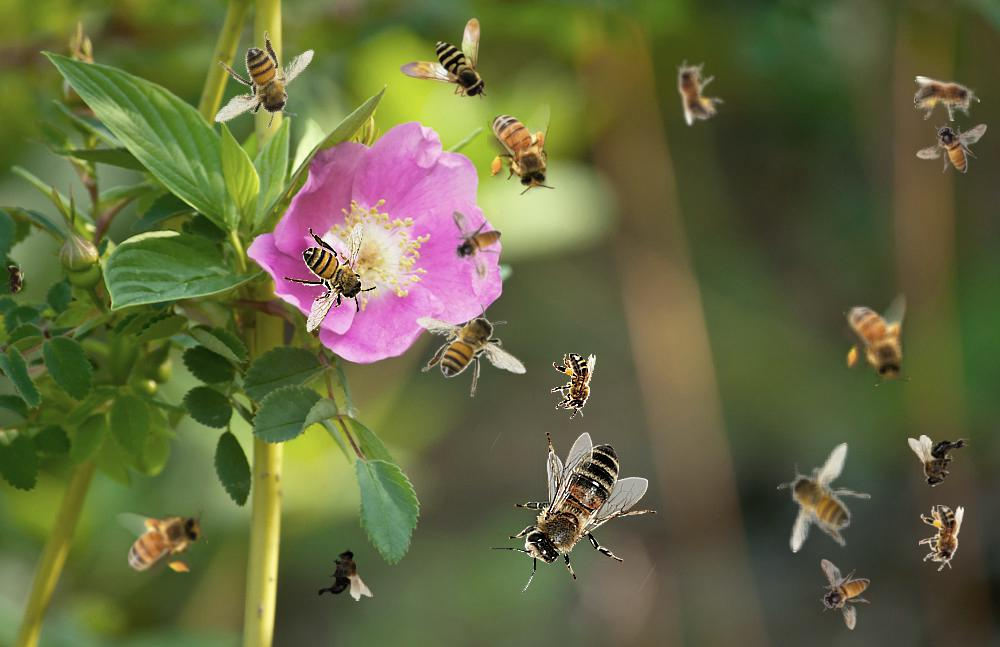Bee: (490, 432, 657, 594), (192, 12, 329, 156), (283, 222, 377, 333), (777, 442, 871, 553), (416, 303, 527, 397), (399, 18, 487, 100), (487, 102, 555, 195), (115, 508, 208, 576), (843, 293, 911, 386), (662, 50, 730, 129), (452, 210, 502, 281), (916, 123, 987, 173), (820, 559, 870, 630), (908, 435, 970, 488), (311, 548, 373, 601), (914, 76, 980, 121), (551, 353, 596, 419), (919, 505, 964, 571), (3, 260, 25, 300)
